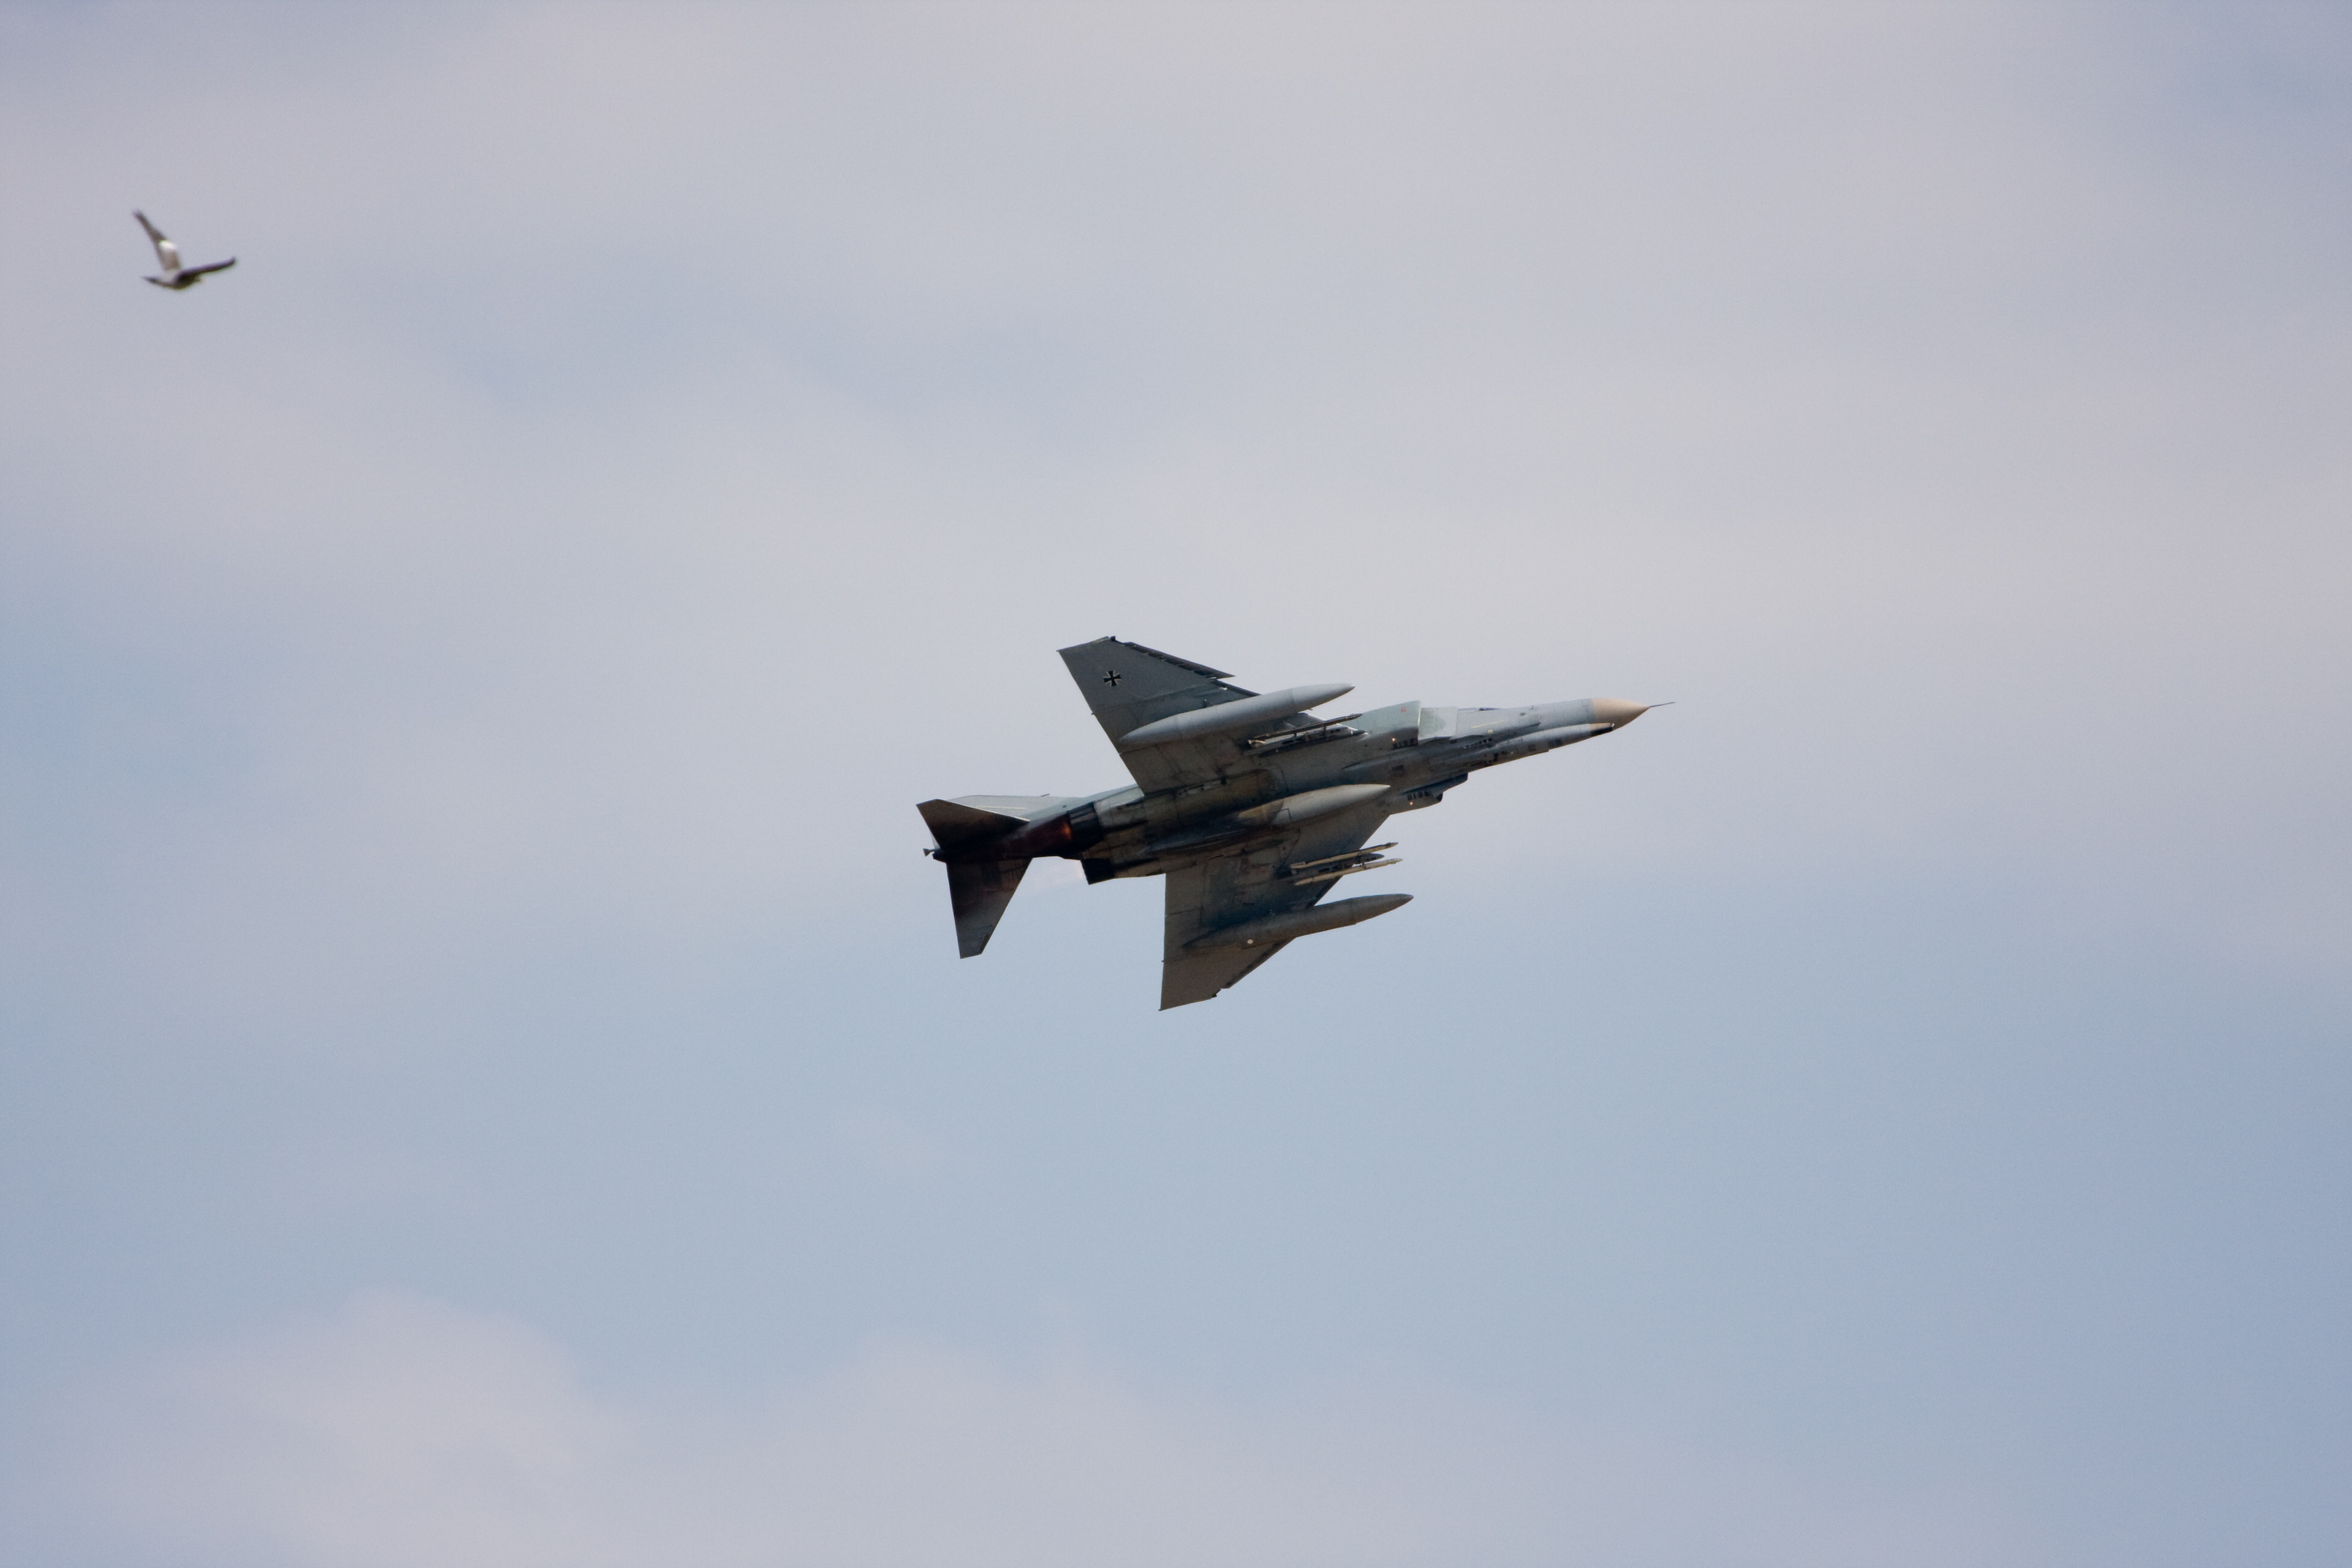F4: (915, 635, 1676, 1011)
